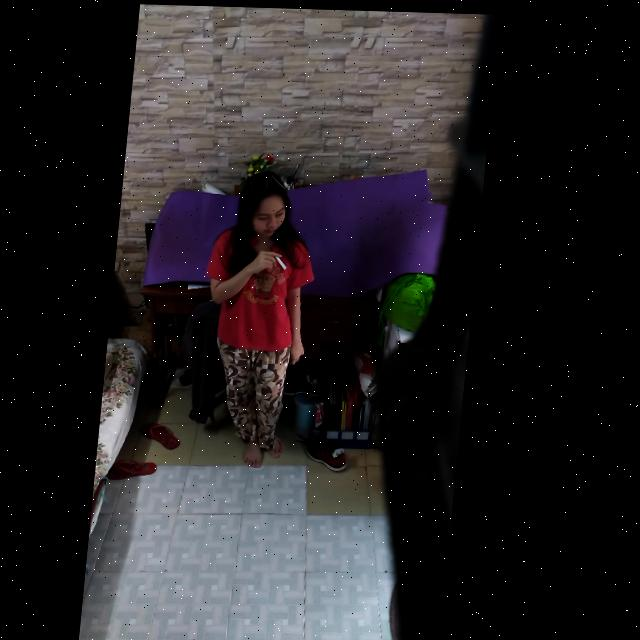cigarette: (279, 254, 293, 268)
